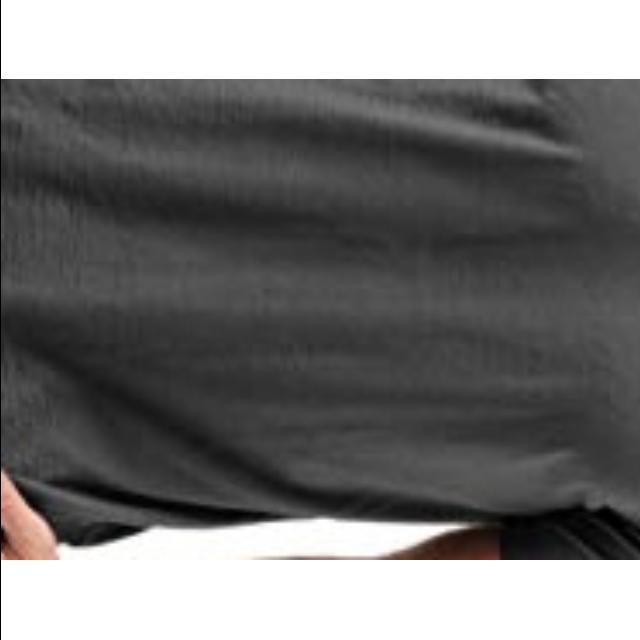wool: (0, 80, 640, 560)
